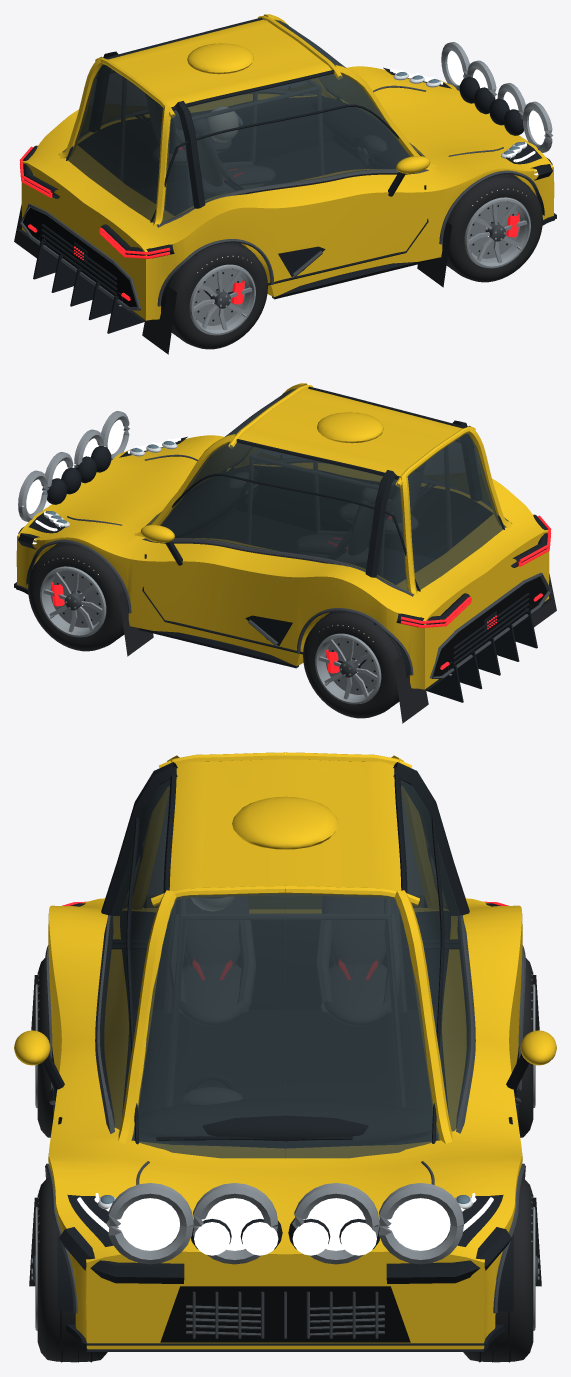
The model's file is fleet-3.glb.
3 views of the same model, one above another, from view 1: azimuth 30°, elevation 25°; view 2: azimuth 150°, elevation 25°; view 3: azimuth 270°, elevation 25° (orthographic). The views are drawn at different scales.
Visible parts, largest first — view 1: GT_body, GT_glazing, GT_tyre, GT_roof, GT_cockpit_tub, GT_cockpit_floor, GT_roof_pillar.001, GT_diffuser_fin, GT_alloy_disc, GT_rear_fascia, GT_dashboard, GT_gravel_flap (+29 smaller); view 2: GT_body, GT_glazing, GT_tyre, GT_roof, GT_cockpit_tub, GT_cockpit_floor, GT_roof_pillar.001, GT_diffuser_fin, GT_dashboard, GT_rear_fascia, GT_alloy_disc, GT_gravel_flap (+28 smaller); view 3: GT_glazing, GT_body, GT_roof, GT_cockpit_floor, GT_tyre, GT_dashboard, GT_stage_lamp_cage, GT_cockpit_tub, GT_roof_pillar.001, GT_radiator, GT_stage_lamp_lens, GT_bucket_back (+23 smaller).
Part boxes in pixels (x1=…): GT_body: x1=21, y1=66, x2=554, y2=320; GT_glazing: x1=66, y1=19, x2=424, y2=224; GT_tyre: x1=169, y1=174, x2=542, y2=349; GT_roof: x1=108, y1=19, x2=331, y2=107; GT_cockpit_tub: x1=78, y1=96, x2=389, y2=189; GT_cockpit_floor: x1=135, y1=141, x2=367, y2=215; GT_roof_pillar.001: x1=59, y1=14, x2=436, y2=225; GT_diffuser_fin: x1=33, y1=241, x2=144, y2=333; GT_alloy_disc: x1=193, y1=201, x2=520, y2=325; GT_rear_fascia: x1=22, y1=207, x2=136, y2=306; GT_dashboard: x1=313, y1=97, x2=409, y2=168; GT_gravel_flap: x1=14, y1=204, x2=451, y2=354; GT_body: x1=16, y1=435, x2=549, y2=689; GT_glazing: x1=146, y1=388, x2=505, y2=591; GT_tyre: x1=28, y1=543, x2=401, y2=718; GT_roof: x1=239, y1=388, x2=462, y2=476; GT_cockpit_tub: x1=181, y1=465, x2=492, y2=558; GT_cockpit_floor: x1=200, y1=510, x2=435, y2=584; GT_roof_pillar.001: x1=134, y1=383, x2=511, y2=594; GT_diffuser_fin: x1=426, y1=610, x2=537, y2=702; GT_dashboard: x1=161, y1=466, x2=257, y2=537; GT_rear_fascia: x1=433, y1=576, x2=547, y2=676; GT_alloy_disc: x1=50, y1=570, x2=377, y2=694; GT_gravel_flap: x1=119, y1=573, x2=556, y2=723; GT_glazing: x1=100, y1=780, x2=470, y2=1158; GT_body: x1=48, y1=898, x2=522, y2=1349; GT_roof: x1=169, y1=757, x2=401, y2=890; GT_cockpit_floor: x1=128, y1=1010, x2=442, y2=1144; GT_tyre: x1=37, y1=958, x2=533, y2=1362; GT_dashboard: x1=138, y1=1098, x2=432, y2=1148; GT_stage_lamp_cage: x1=106, y1=1183, x2=463, y2=1264; GT_cockpit_tub: x1=120, y1=911, x2=450, y2=1111; GT_roof_pillar.001: x1=118, y1=755, x2=452, y2=1144; GT_radiator: x1=160, y1=1286, x2=410, y2=1342; GT_stage_lamp_lens: x1=117, y1=1198, x2=450, y2=1250; GT_bucket_back: x1=176, y1=896, x2=394, y2=965.
Bounding box in the file's own units: 0.2948 × 0.1483 × 0.1928.
